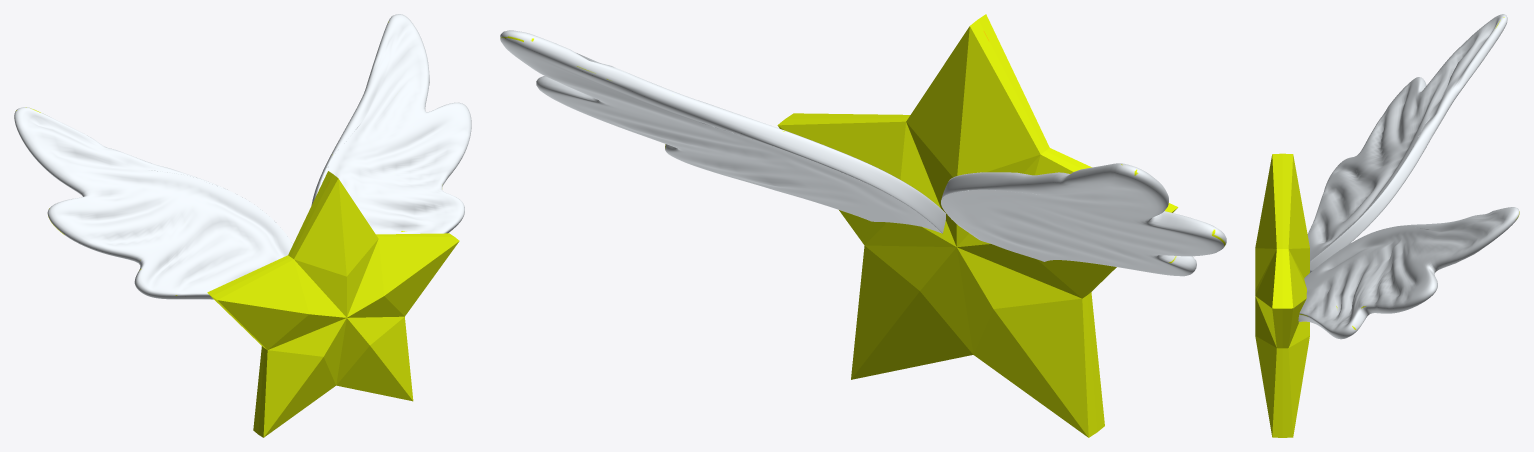
Rendered from Star.fbx.
3 views of the same model, side by side, from view 1: azimuth 30°, elevation 25°; view 2: azimuth 150°, elevation 25°; view 3: azimuth 270°, elevation 25° (orthographic). The views are drawn at different scales.
Visible parts, largest first — view 1: Cube.014; view 2: Cube.014; view 3: Cube.014.
Part boxes in pixels (x1,y1,x2,y2): Cube.014: (14,14,471,437); Cube.014: (500,14,1226,437); Cube.014: (1255,14,1519,437).
Size of the model in its own units: 411 by 257 by 217.
